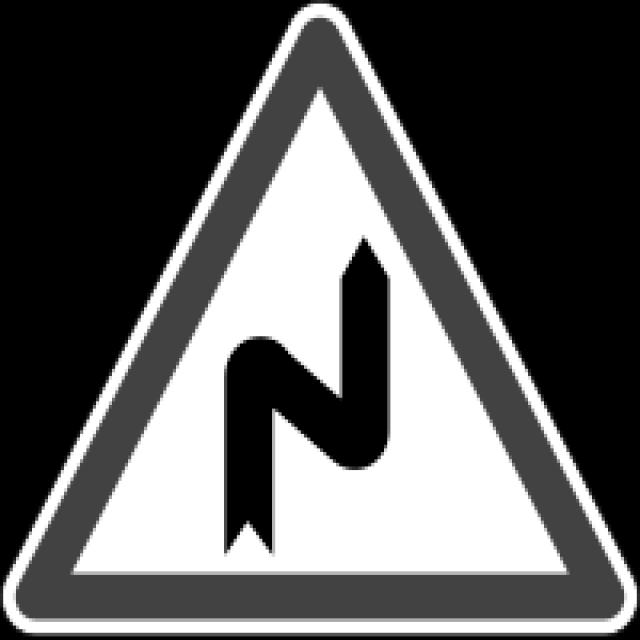turn_danger: (3, 0, 640, 640)
